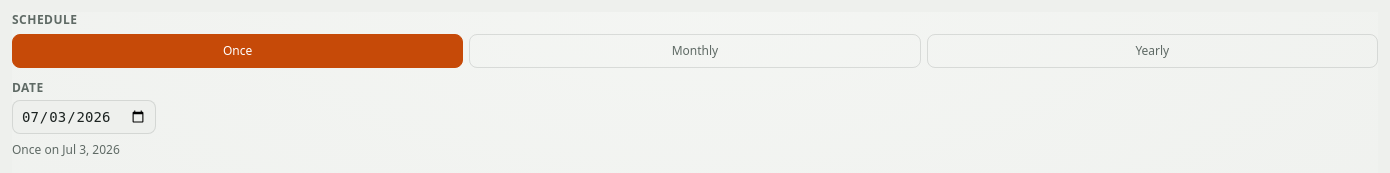
Scenario: FrequencyPicker fields › switching to Yearly reveals month + day selects
Click the button "Yearly".
click(1152, 51)  # box x1=927 y1=34 x2=1378 y2=68
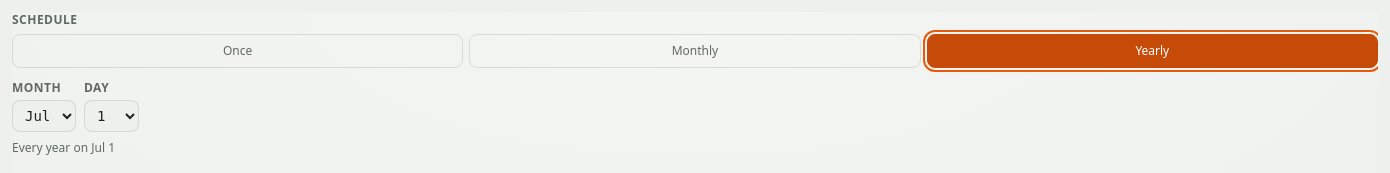
Now the dropdown labelled "Month" shows "Jul", box x1=12 y1=100 x2=76 y2=132
Now the dropdown labelled "Day" shows "1", box x1=84 y1=100 x2=139 y2=132
